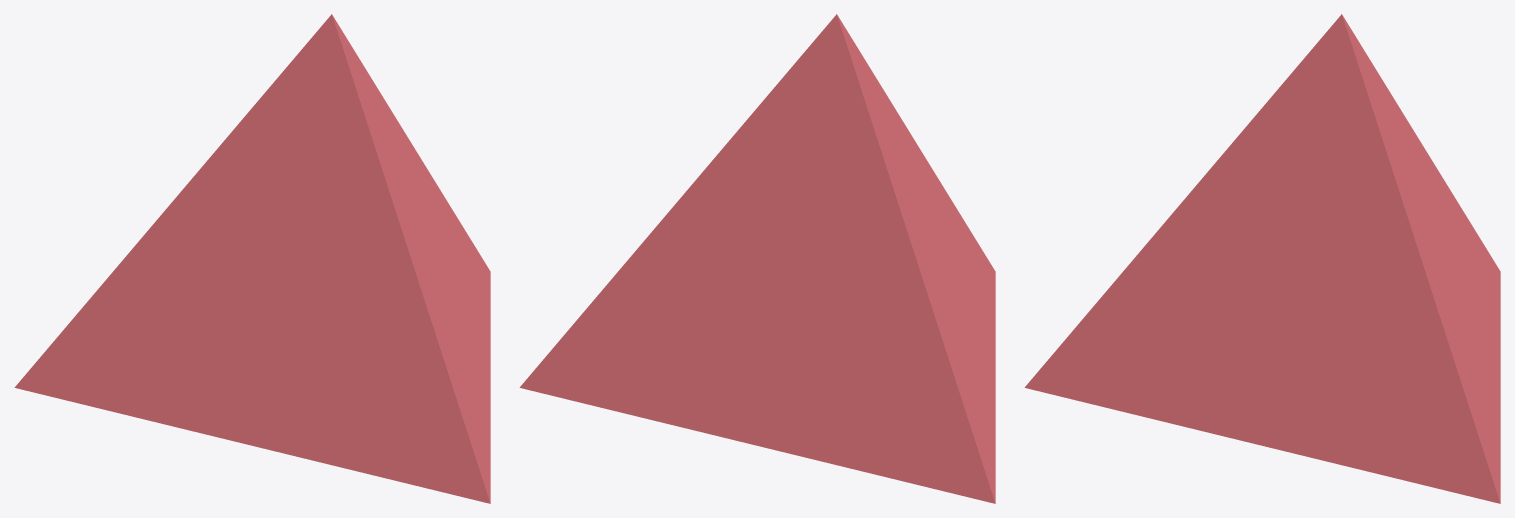
File: RegularPyramid.fbx
3 views of the same model, side by side, from view 1: azimuth 30°, elevation 25°; view 2: azimuth 150°, elevation 25°; view 3: azimuth 270°, elevation 25° (orthographic).
Visible parts, largest first — view 1: RegularPyramid; view 2: RegularPyramid; view 3: RegularPyramid.
Part boxes in pixels (x1,y1,x2,y2): RegularPyramid: (14,14,490,503); RegularPyramid: (519,14,995,503); RegularPyramid: (1024,14,1500,503).
Bounding box in the file's own units: 173 × 130 × 150.
